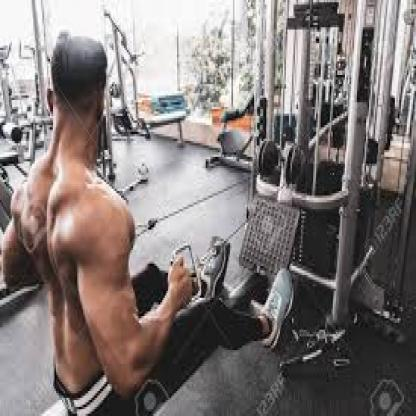Seated Cable Rows: (0, 11, 389, 416)
